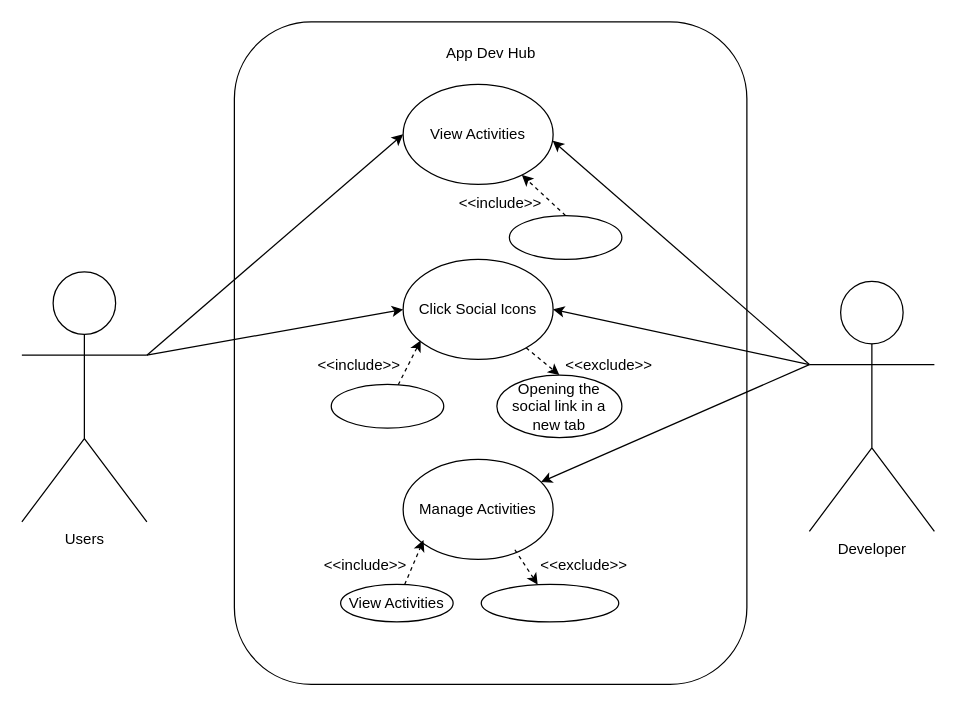
Image size: 956x706. Some labels were removed from this diagram. The shapes that lost their labels are listed below. From the top down, each one's centre as x and y in pixels, then its label:
point 565,236: Load Activity Data
point 387,405: View Social Icons
point 549,602: Update Activities
